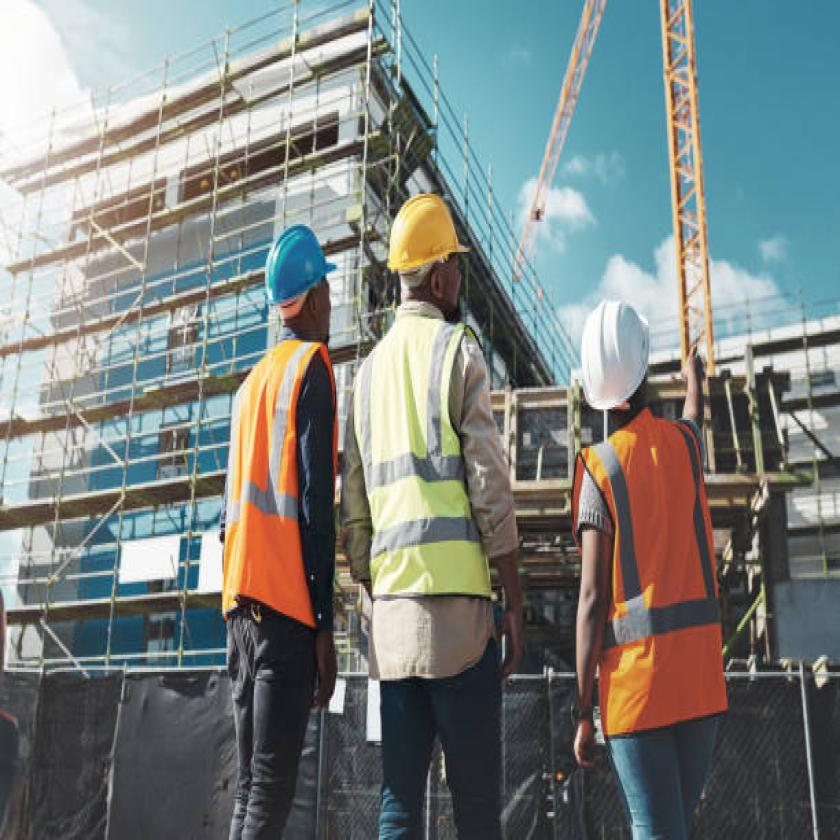Con_casco: (560, 261, 666, 444), (379, 169, 474, 338), (258, 196, 342, 385)
